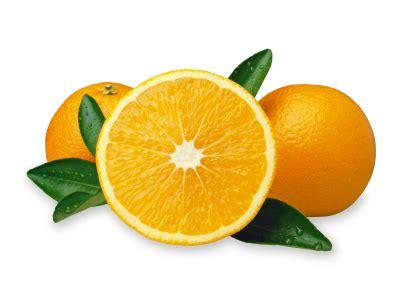orange: (256, 81, 379, 220), (42, 78, 137, 182)
